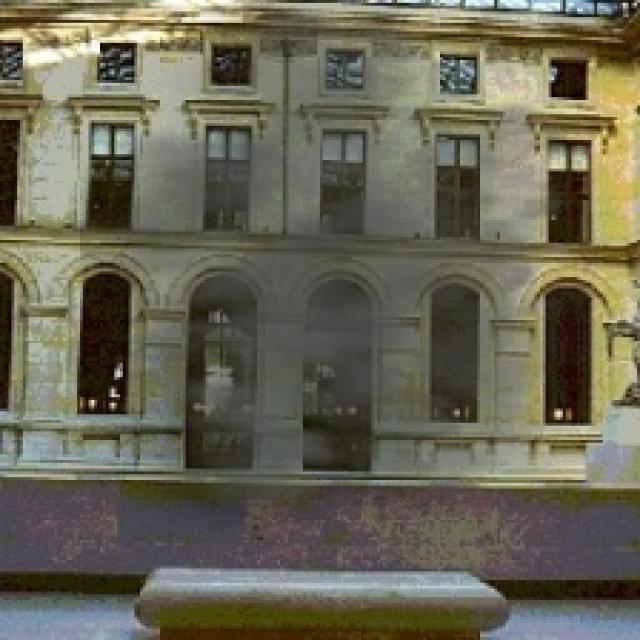Smoke: (80, 14, 634, 552)
